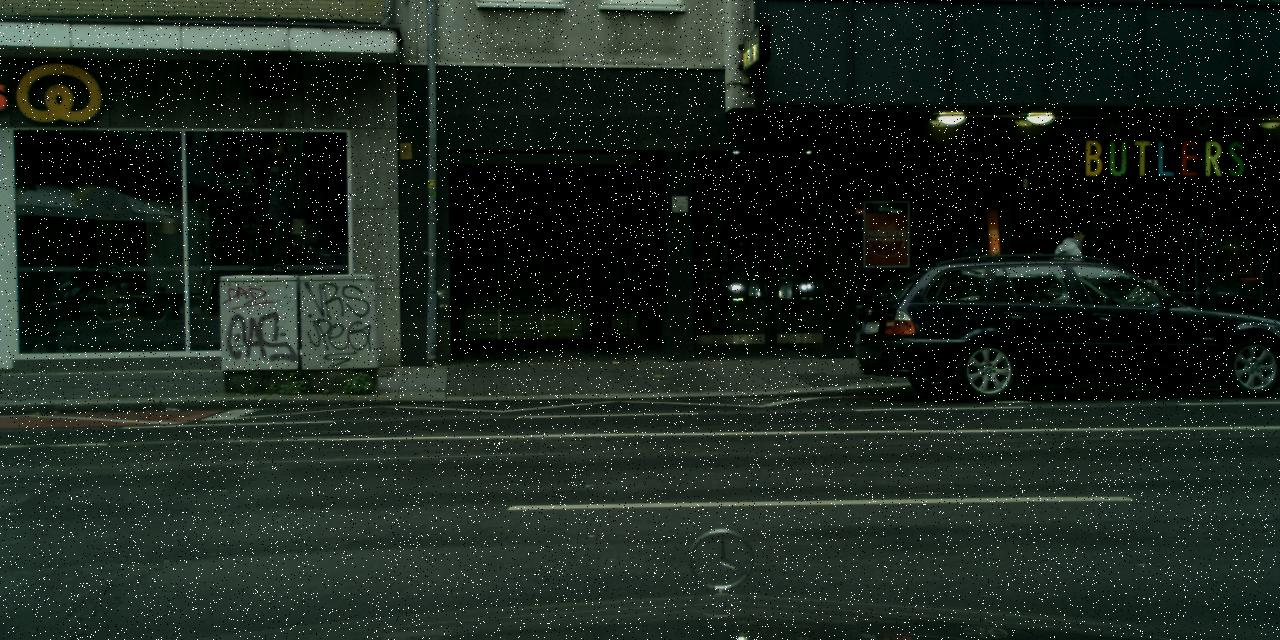ped: (1040, 221, 1096, 361)
